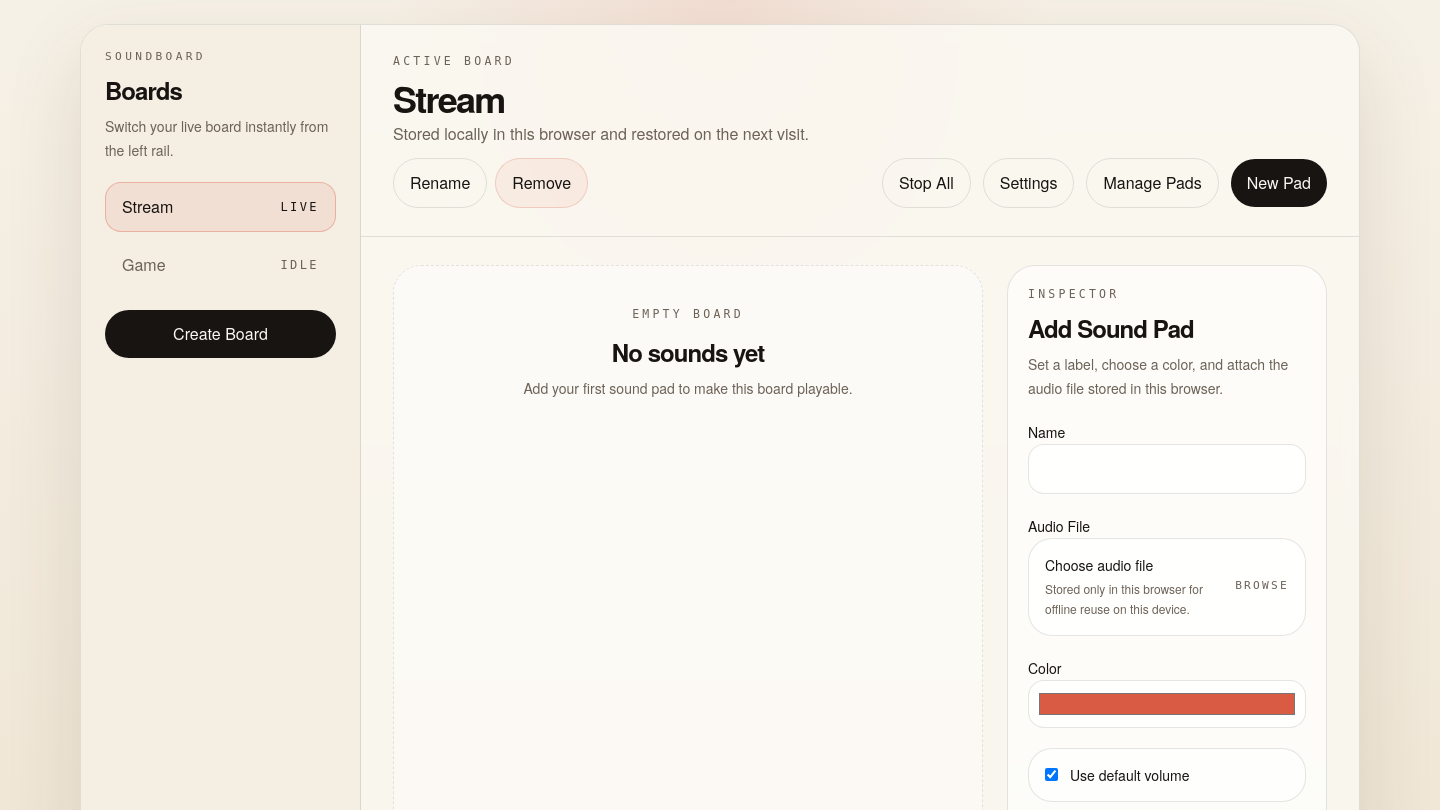
it: SoundboardApp › deletes an empty board without confirmation
Step 1. Click the button "Game Idle" → (220, 265), box [105,240,336,290]
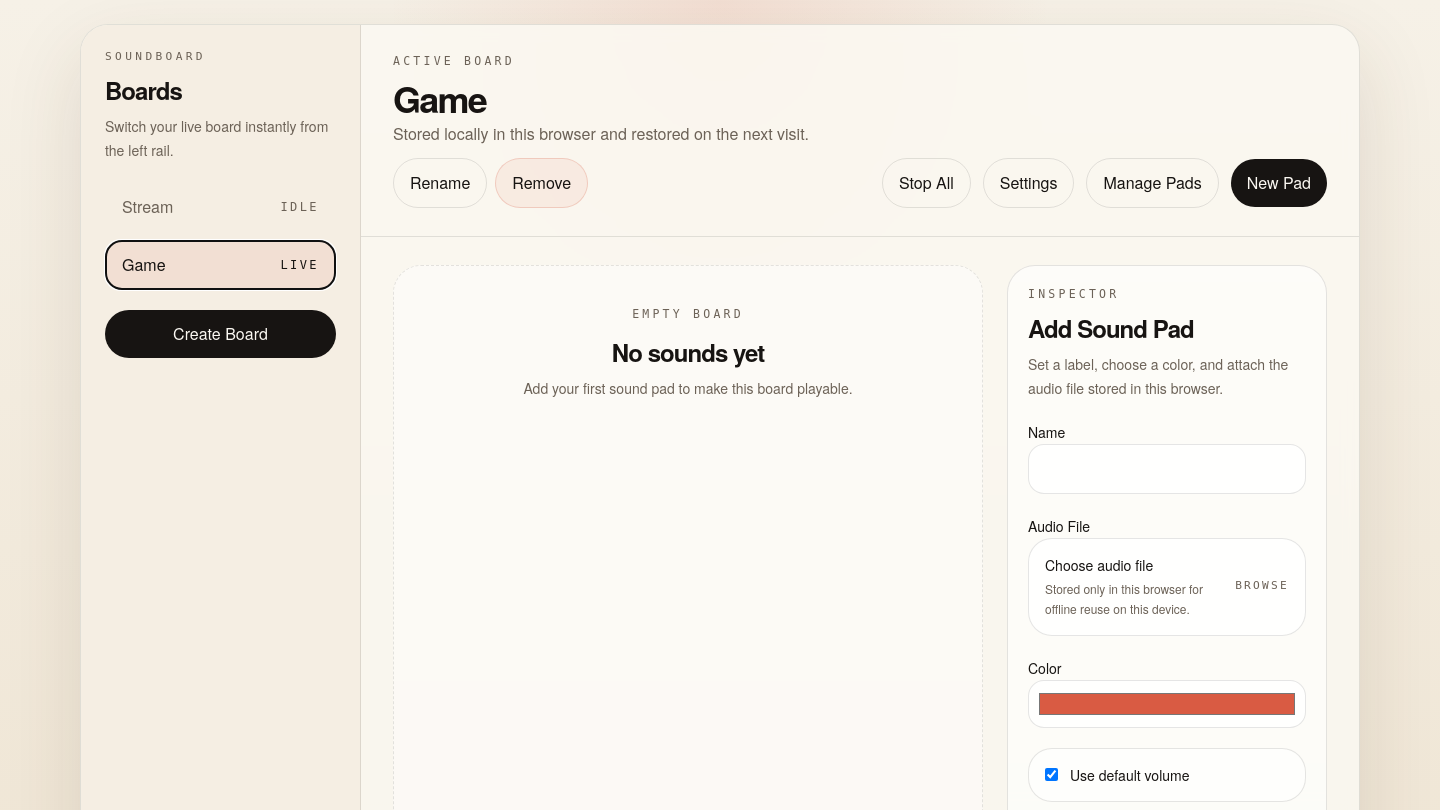
Step 2. Click the button with aria-label "delete game" → (542, 183), box [495,158,588,208]
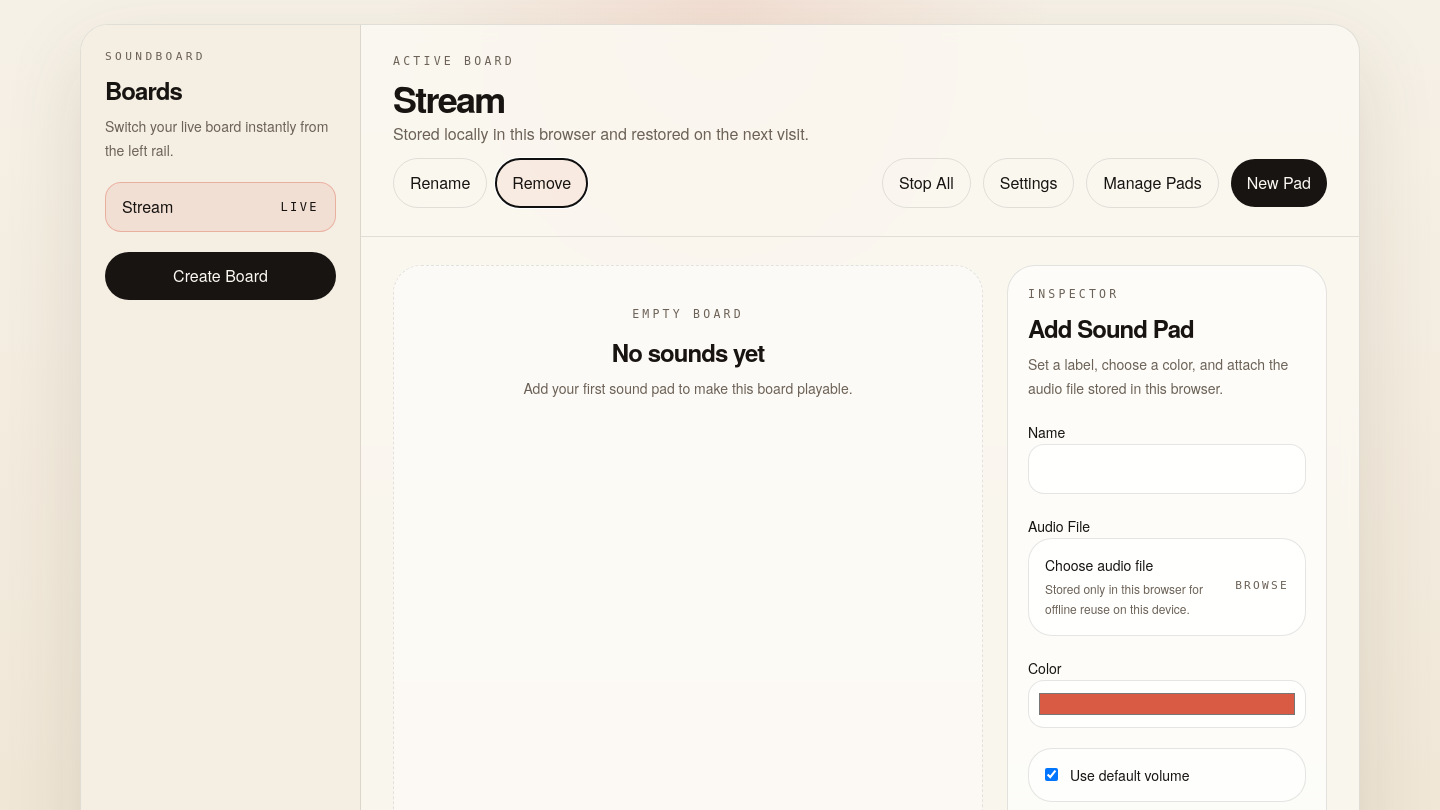
expect the button "Game" is gone: met
